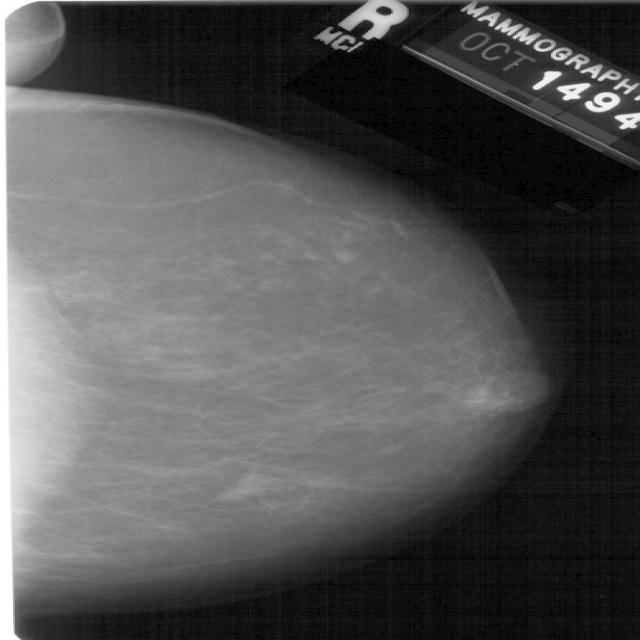tumour: (218, 472, 278, 499)
